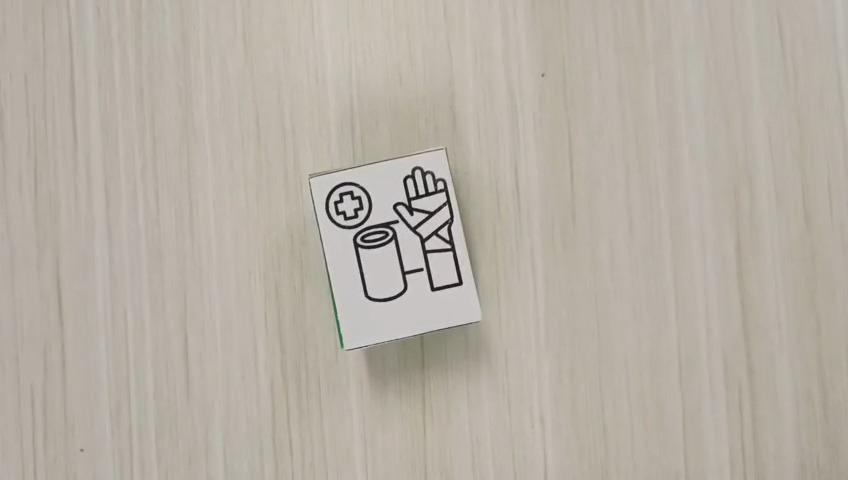Bandages: (307, 145, 485, 351)
